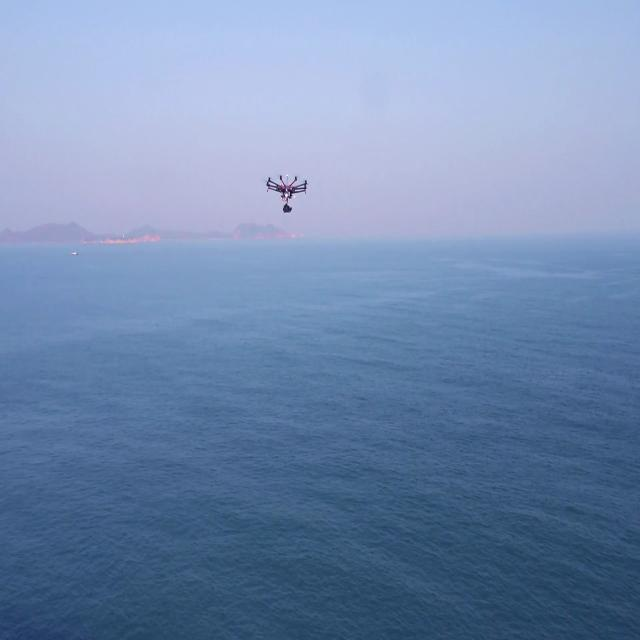drone: (266, 145, 309, 221)
